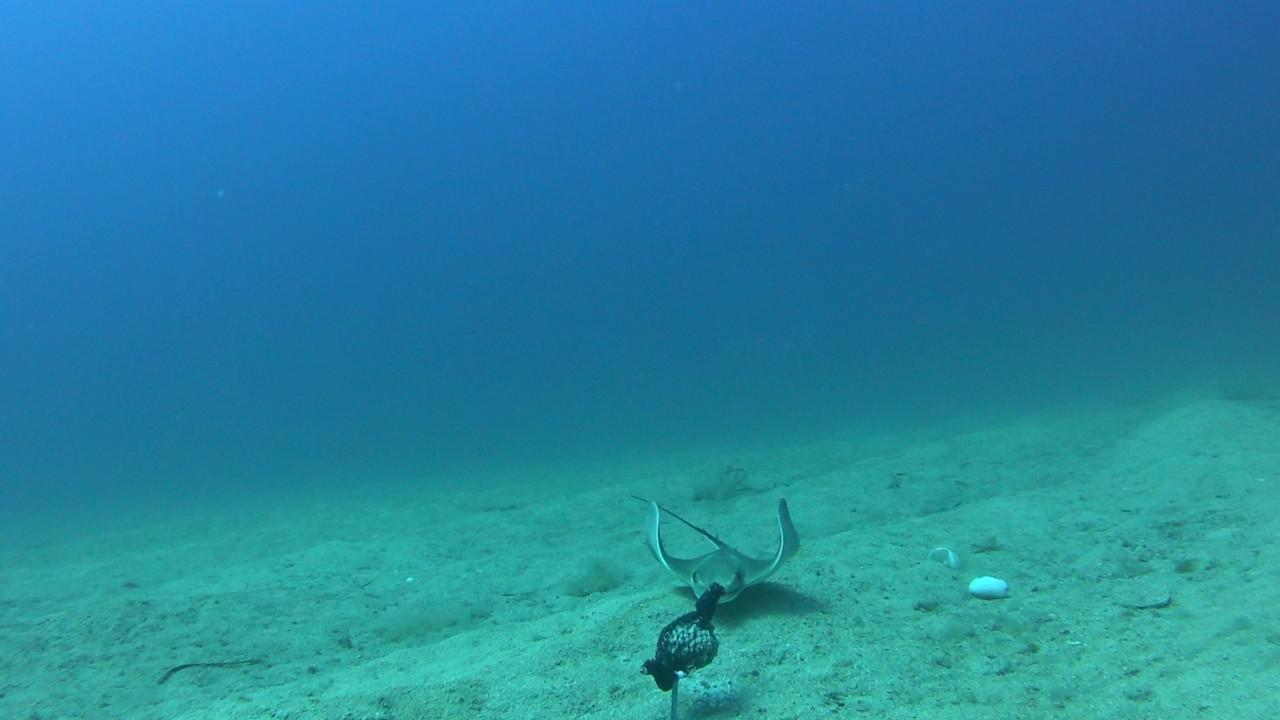myliobatis: (621, 485, 819, 610)
